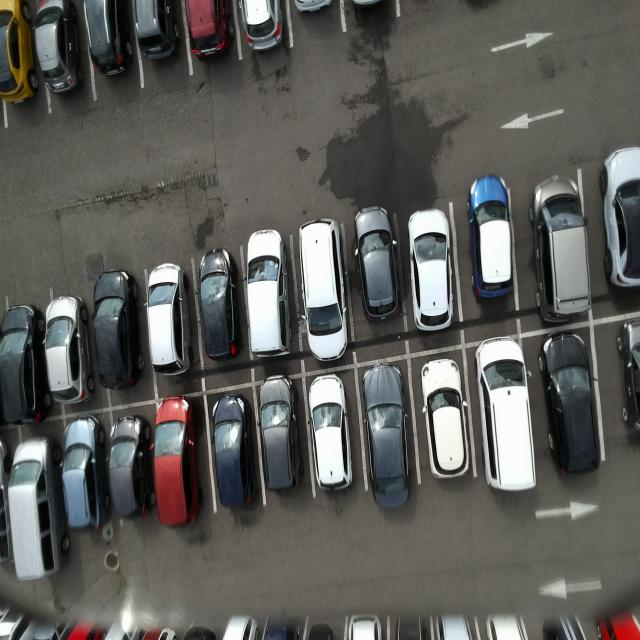car: (525, 166, 598, 333), (474, 334, 539, 495), (540, 332, 606, 480), (8, 436, 68, 586), (465, 168, 523, 306), (297, 217, 350, 367), (361, 362, 414, 510), (90, 266, 147, 395), (407, 209, 462, 338), (247, 226, 298, 365), (419, 354, 473, 482), (154, 396, 205, 527), (352, 208, 405, 325), (1, 302, 50, 425), (307, 372, 356, 494), (148, 261, 197, 382), (257, 377, 307, 492), (45, 294, 94, 411), (62, 416, 110, 533), (213, 396, 259, 512), (197, 247, 243, 362), (33, 1, 83, 95), (112, 409, 152, 521)
